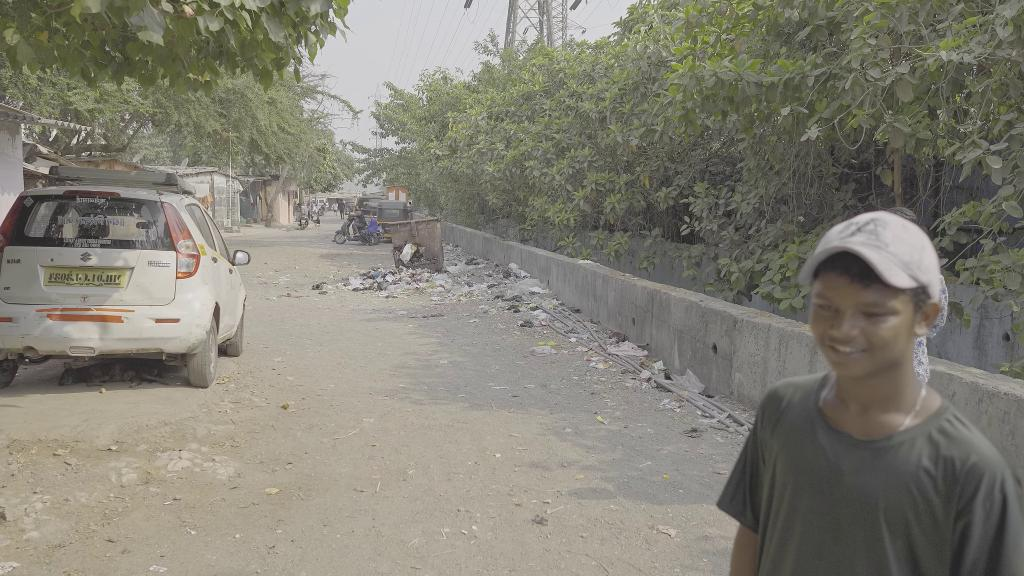dustbin: (386, 214, 441, 274)
garbage: (666, 366, 709, 396), (528, 343, 560, 359), (519, 320, 536, 329)
